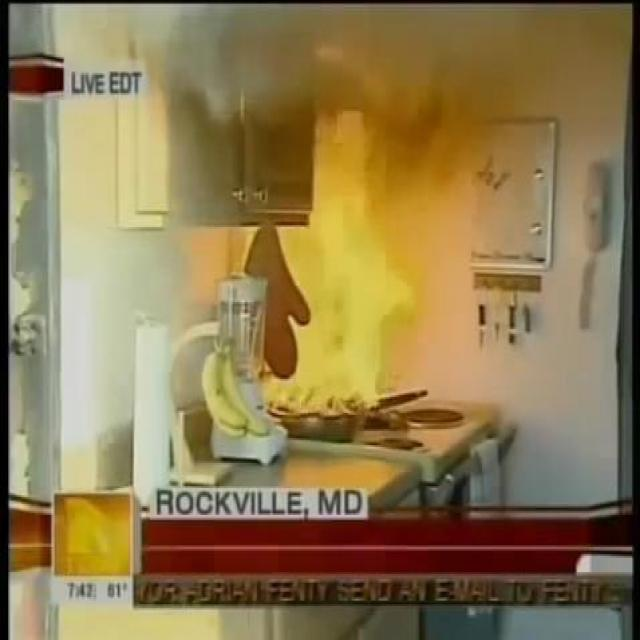fire: (275, 109, 397, 421)
